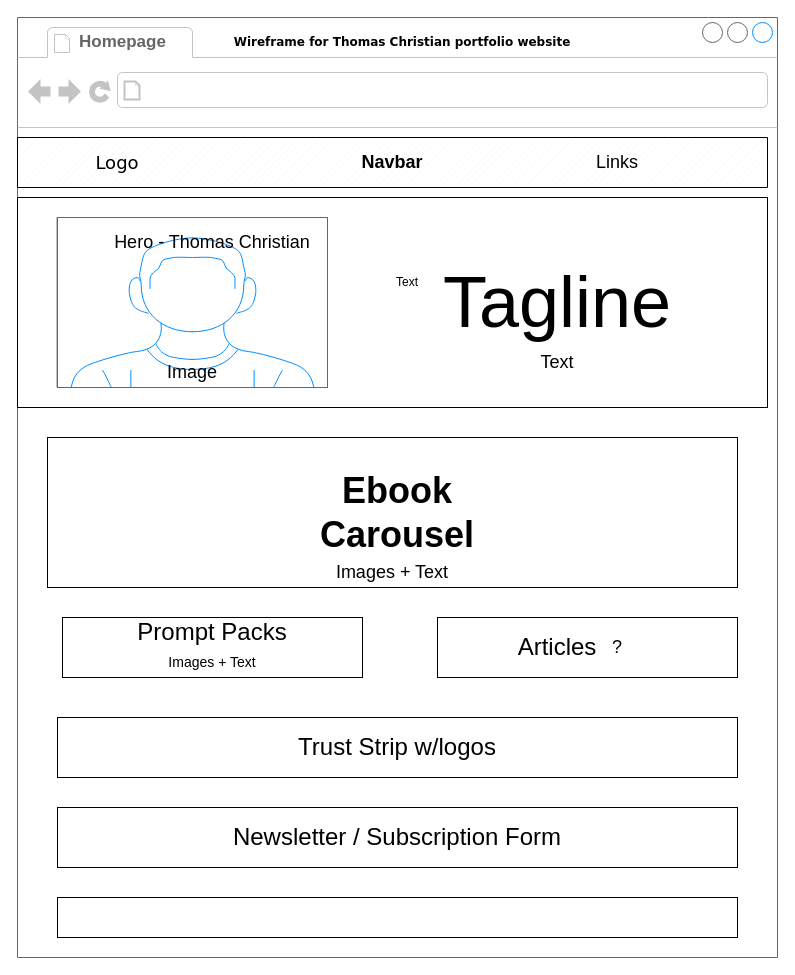
The diagram is 795 pixels wide and 975 high, and some of its shapes have lost their labels. Each missing label, with the centre of its shape:
Footer w/social media links: [397,917]
https://www.ThomasChristian.draw.io: [272,90]
